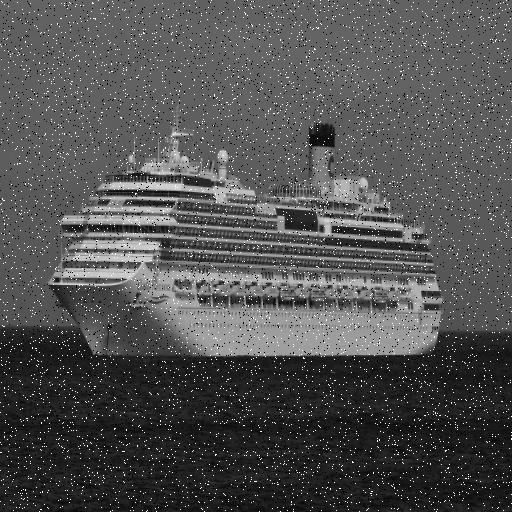cruises: (35, 93, 454, 367)
